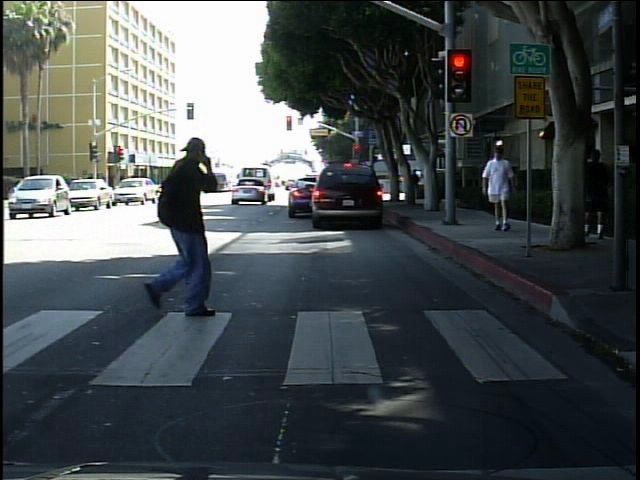person: (124, 121, 236, 335), (480, 145, 521, 240), (579, 137, 613, 246)
